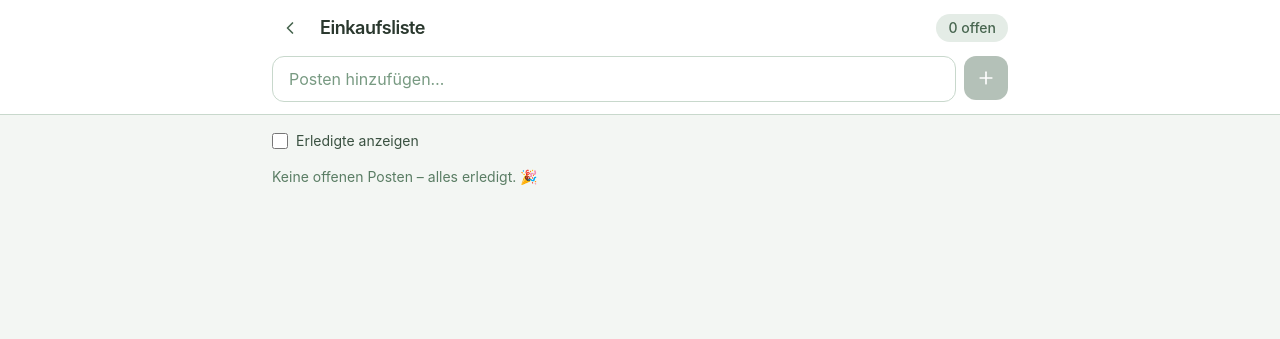
Test case: Einkaufsliste-Detailseite › clicking "Mehr laden" appends the next page
Click the checkbox labelled "Erledigte anzeigen". click: point(280, 141)
box: top-left (272, 133), bottom-right (288, 149)
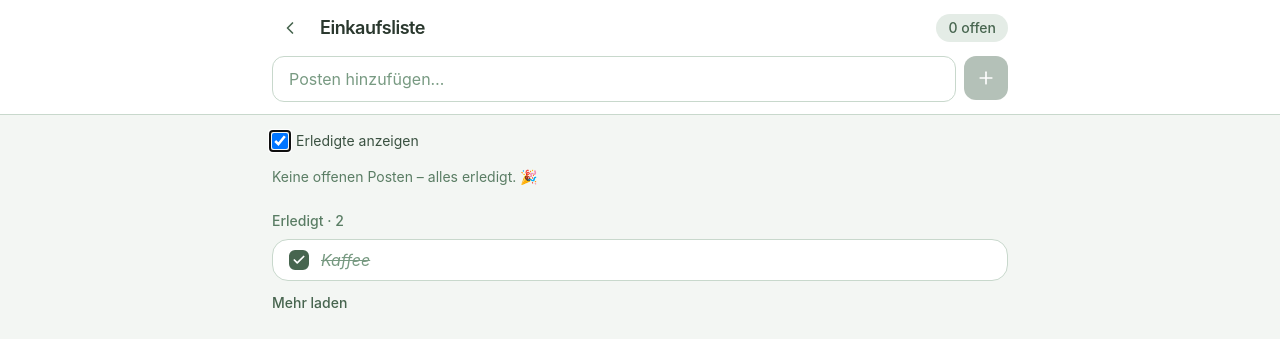
Expected: the button "Mehr laden" is shown
Click the button "Mehr laden". click: point(310, 303)
box: top-left (272, 293), bottom-right (347, 313)
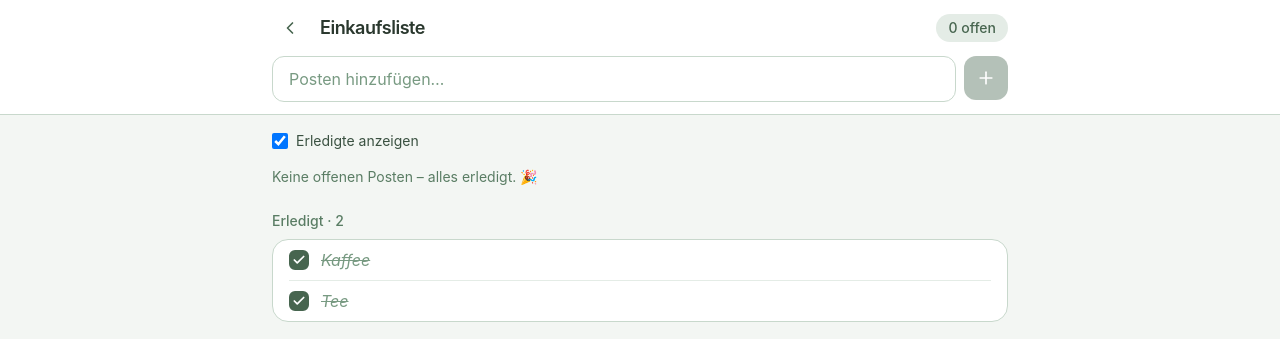
Expected: the button named "Tee wieder öffnen" is shown, top-left (289, 291), bottom-right (309, 311)
